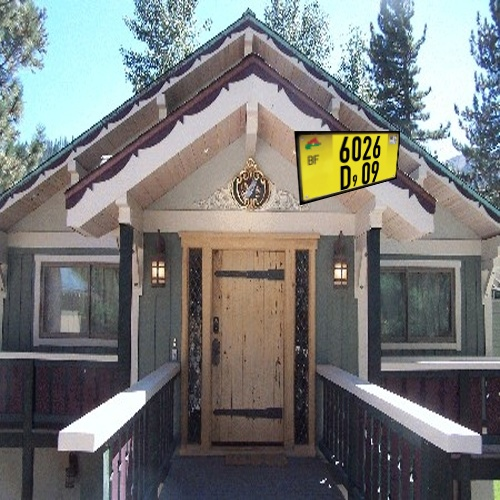plate: (284, 117, 411, 210)
